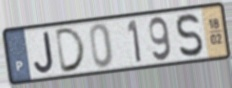0: (88, 21, 115, 70)
1: (126, 18, 143, 65)
9: (147, 15, 173, 63)
D: (54, 25, 88, 75)
J: (33, 30, 56, 75)
S: (175, 12, 205, 59)
